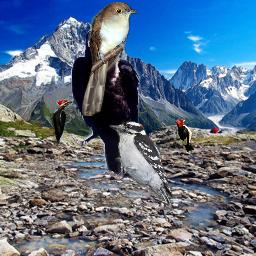Crow: (70, 28, 140, 182)
Cuckoo: (82, 1, 137, 116)
Woodpecker: (109, 121, 173, 208), (50, 99, 78, 144), (176, 119, 196, 153)
